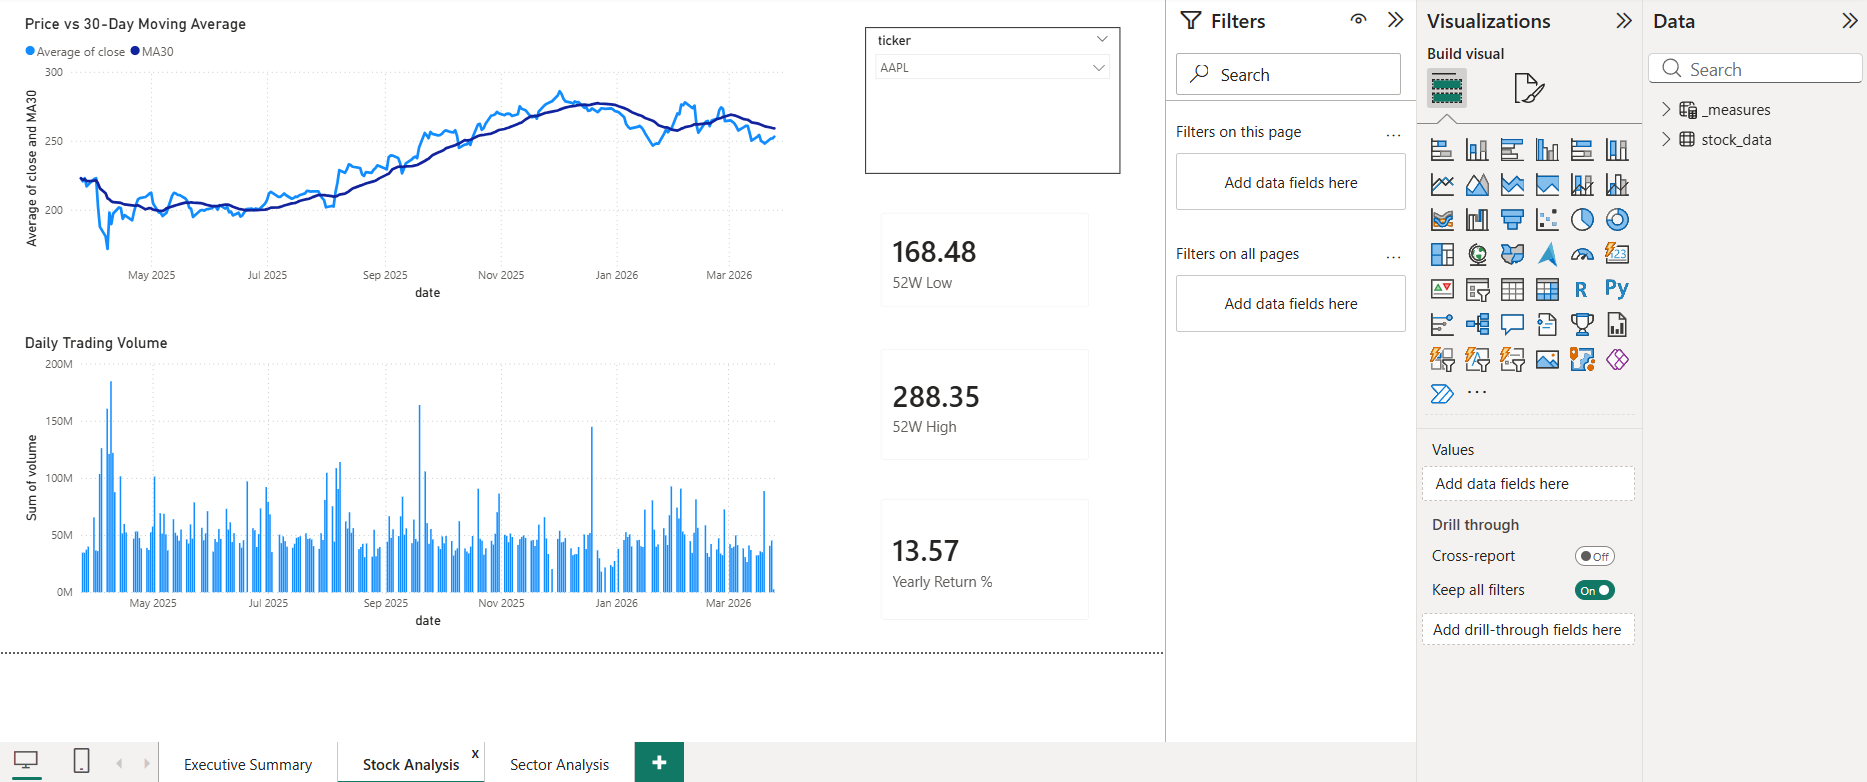

This screenshot's page, from the dashboard's own definition file:
{"tool":"powerbi","page":{"name":"Stock Analysis","canvas":[1280,720],"ordinal":1},"visuals":[{"type":"slicer","fields":{"Values":["stock_data.ticker"]},"box":[950.9,34.3,279.9,160.5],"z":0},{"type":"lineChart","title":"Price vs 30-Day Moving Average","fields":{"Category":["stock_data.date"],"Y":["Avg(stock_data.close)","_measures.MA30"]},"box":[23.3,20.6,859,318.4],"z":1},{"type":"clusteredColumnChart","title":"Daily Trading Volume","fields":{"Category":["stock_data.date"],"Y":["Sum(stock_data.volume)"]},"box":[23.3,370.5,859,328],"z":2},{"type":"cardVisual","fields":{"Data":["_measures.52W High"]},"box":[950.9,370.5,263.5,156.4],"z":3},{"type":"cardVisual","fields":{"Data":["_measures.52W Low"]},"box":[950.9,220.9,263.5,138.6],"z":4},{"type":"cardVisual","fields":{"Data":["_measures.Yearly Return %"]},"box":[950.9,535.2,263.5,167.4],"z":5}]}

Visuals, with their boxes on the page's 1280x720 design canvas (x1, y1, x2, y2). These are canvas units, not pixel positions in the 1867x782 screenshot, which may show the page scaled, cropped or inside an application window:
slicer - stock_data.ticker: left=951, top=34, right=1231, bottom=195
"Price vs 30-Day Moving Average" lineChart: left=23, top=21, right=882, bottom=339
"Daily Trading Volume" clusteredColumnChart: left=23, top=370, right=882, bottom=698
cardVisual - _measures.52W High: left=951, top=370, right=1214, bottom=527
cardVisual - _measures.52W Low: left=951, top=221, right=1214, bottom=360
cardVisual - _measures.Yearly Return %: left=951, top=535, right=1214, bottom=703
